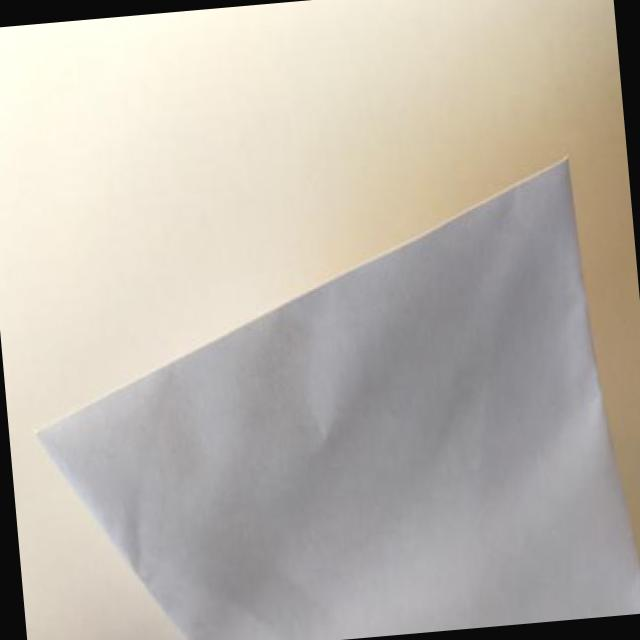giay: (32, 161, 640, 640)
